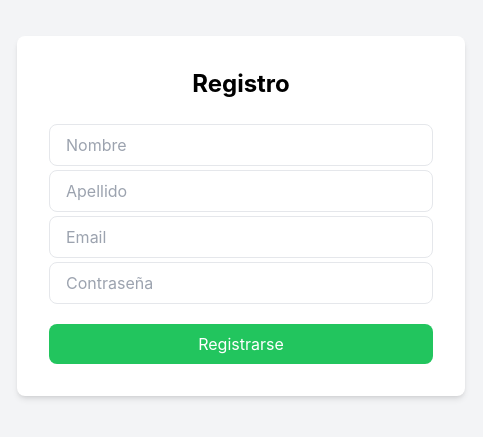
Test case: Register Page › registro exitoso muestra mensaje y redirige
Type "John" into the field with placeholder "Nombre" at (241, 145), box [49,124,433,166]
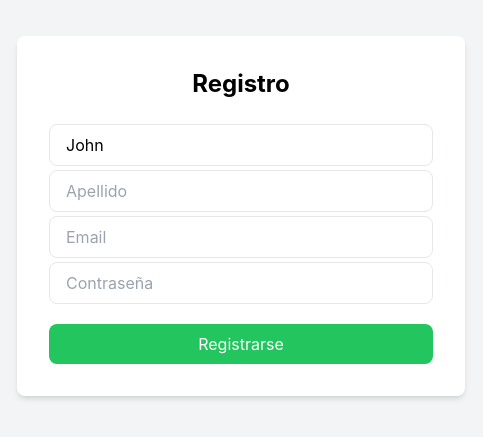
Type "Doe" into the field with placeholder "Apellido" at (241, 191), box [49,170,433,212]
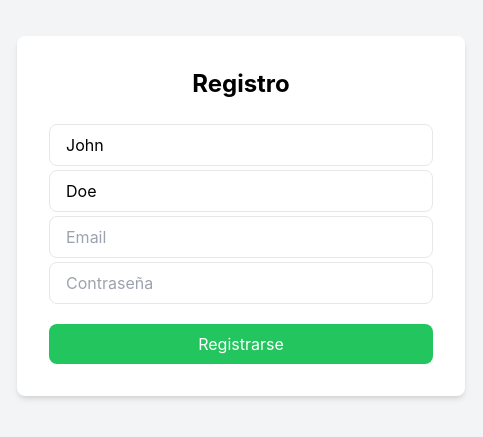
Type "john@example.com" into the field with placeholder "Email" at (241, 237), box [49,216,433,258]
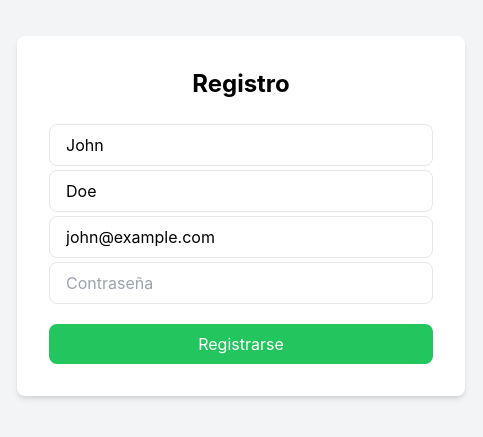
Type "password123" into the password field with placeholder "Contraseña" at (241, 283), box [49,262,433,304]
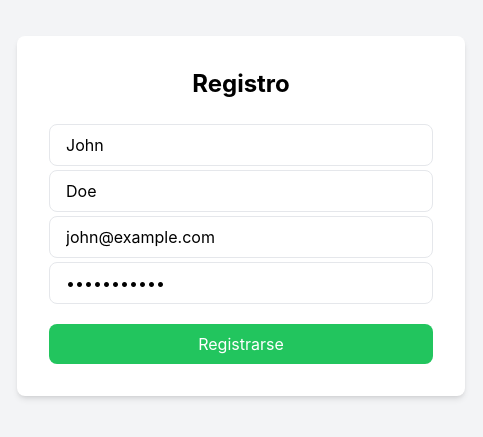
Click the button "Registrarse" at (241, 344), box [49,324,433,364]
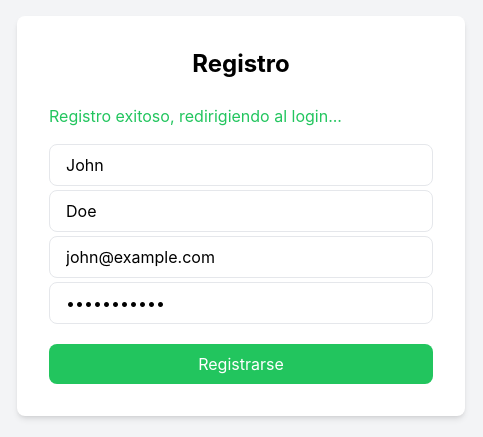
expect the text "Registro exitoso, redirigiendo al login..." is shown: met, box [49,106,342,126]
